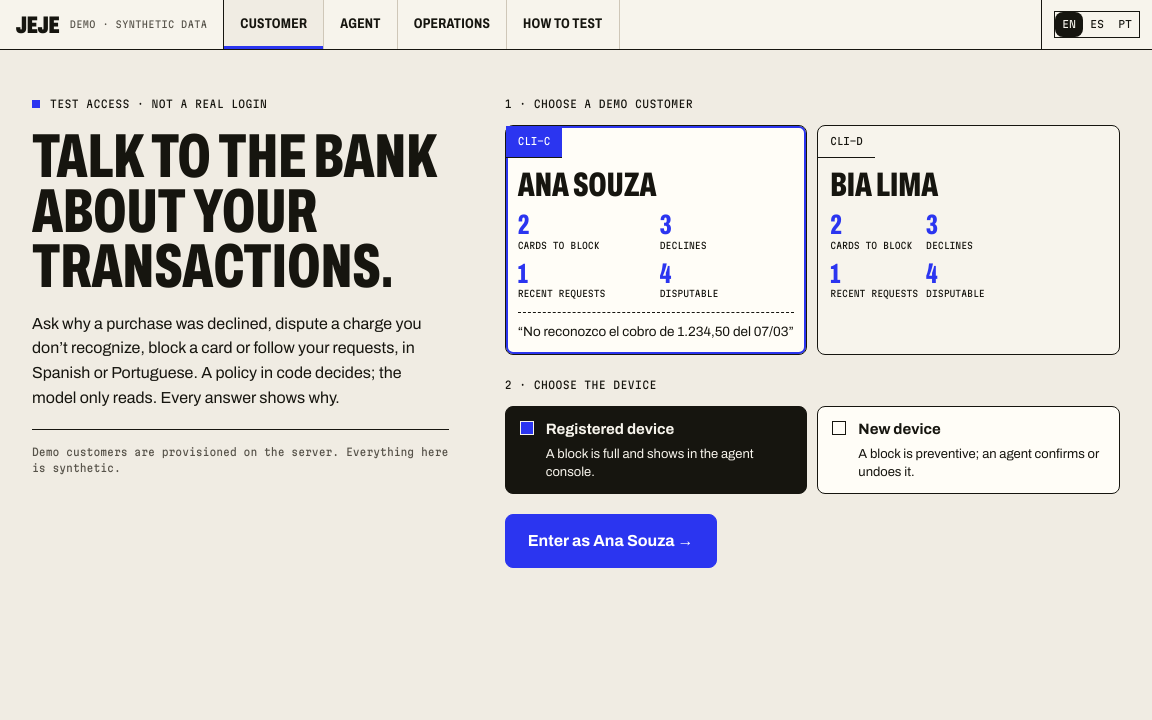
sessão expirada volta para o acesso com aviso
The image size is (1152, 720).
Click the button "Enter as Ana Souza →". click: (611, 541)
box: [505,514,717,568]
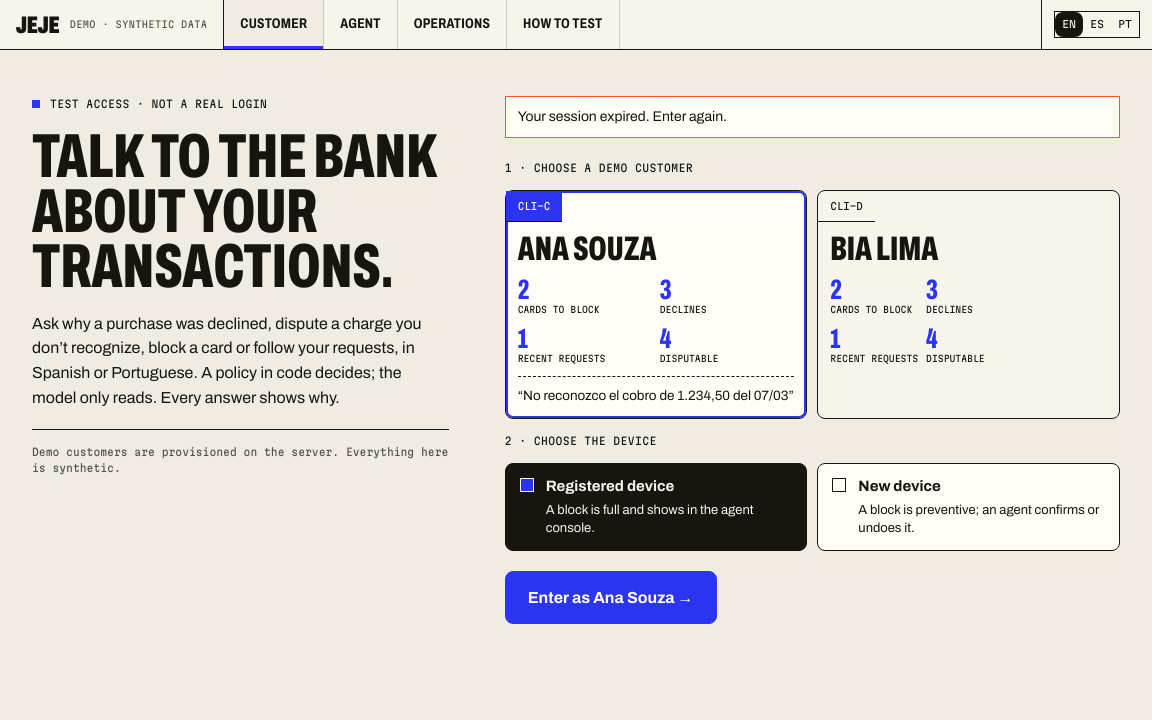
Expected: the heading "Talk to the bank about your transactions." is shown, [32,129,449,294]
Expected: the message shows "Your session expired", [518,109,727,124]
